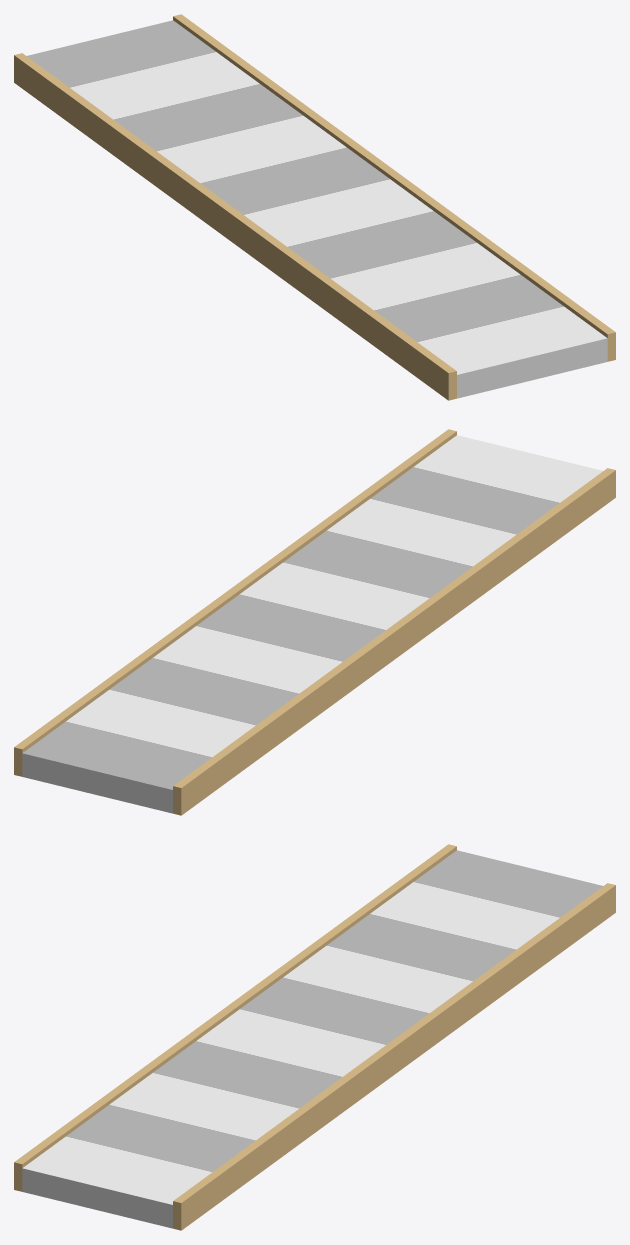
Rendered from Road.fbx.
The picture shows the model from 3 angles, top to bottom: view 1: azimuth 30°, elevation 25°; view 2: azimuth 150°, elevation 25°; view 3: azimuth 330°, elevation 25°; orthographic projection.
Visible parts, largest first — view 1: Default Road; view 2: Default Road; view 3: Default Road.
Part boxes in pixels (x1,y1,x2,y2): Default Road: (14, 14, 615, 400); Default Road: (14, 429, 615, 815); Default Road: (14, 844, 615, 1230).
Size of the model in its own units: 2.22 by 0.35 by 10.
